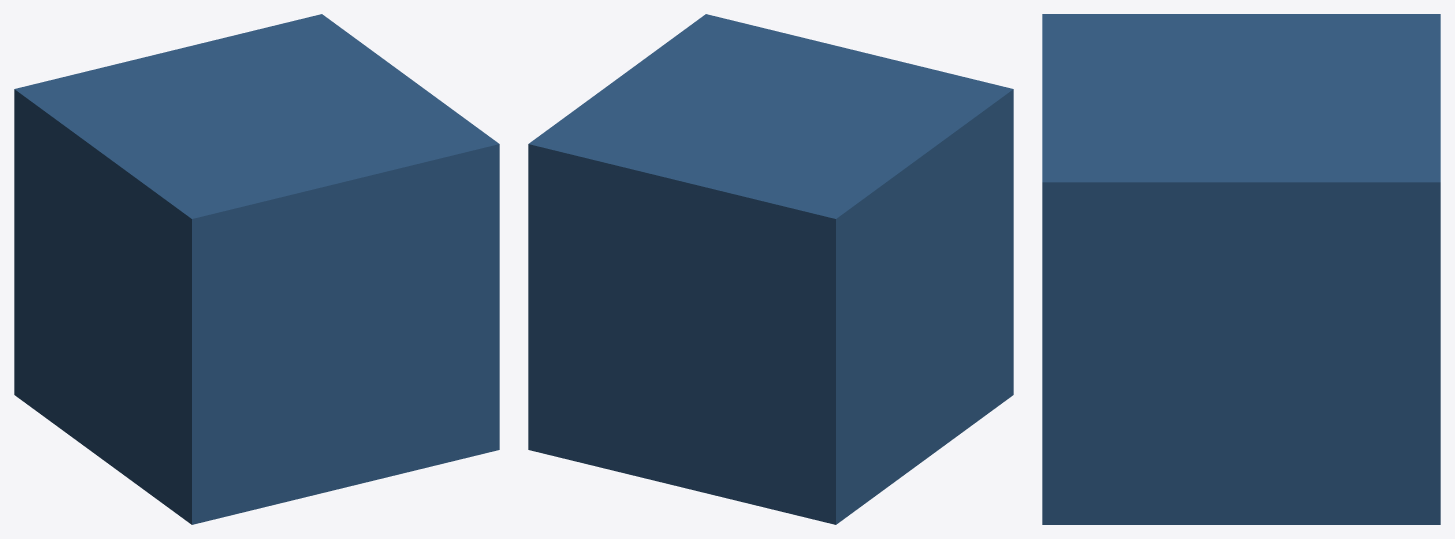
File: ForestLakeCube.fbx
3 renders of one model, left to right at view 1: azimuth 30°, elevation 25°; view 2: azimuth 150°, elevation 25°; view 3: azimuth 270°, elevation 25°, orthographic. The views are drawn at different scales.
Parts seen in each view (by area): view 1: ForestLakeCube; view 2: ForestLakeCube; view 3: ForestLakeCube.
Part boxes in pixels (bbox=[...]): ForestLakeCube: bbox=[14, 14, 499, 524]; ForestLakeCube: bbox=[528, 14, 1013, 524]; ForestLakeCube: bbox=[1042, 14, 1440, 524].
Size of the model in its own units: 100 by 95 by 100.
